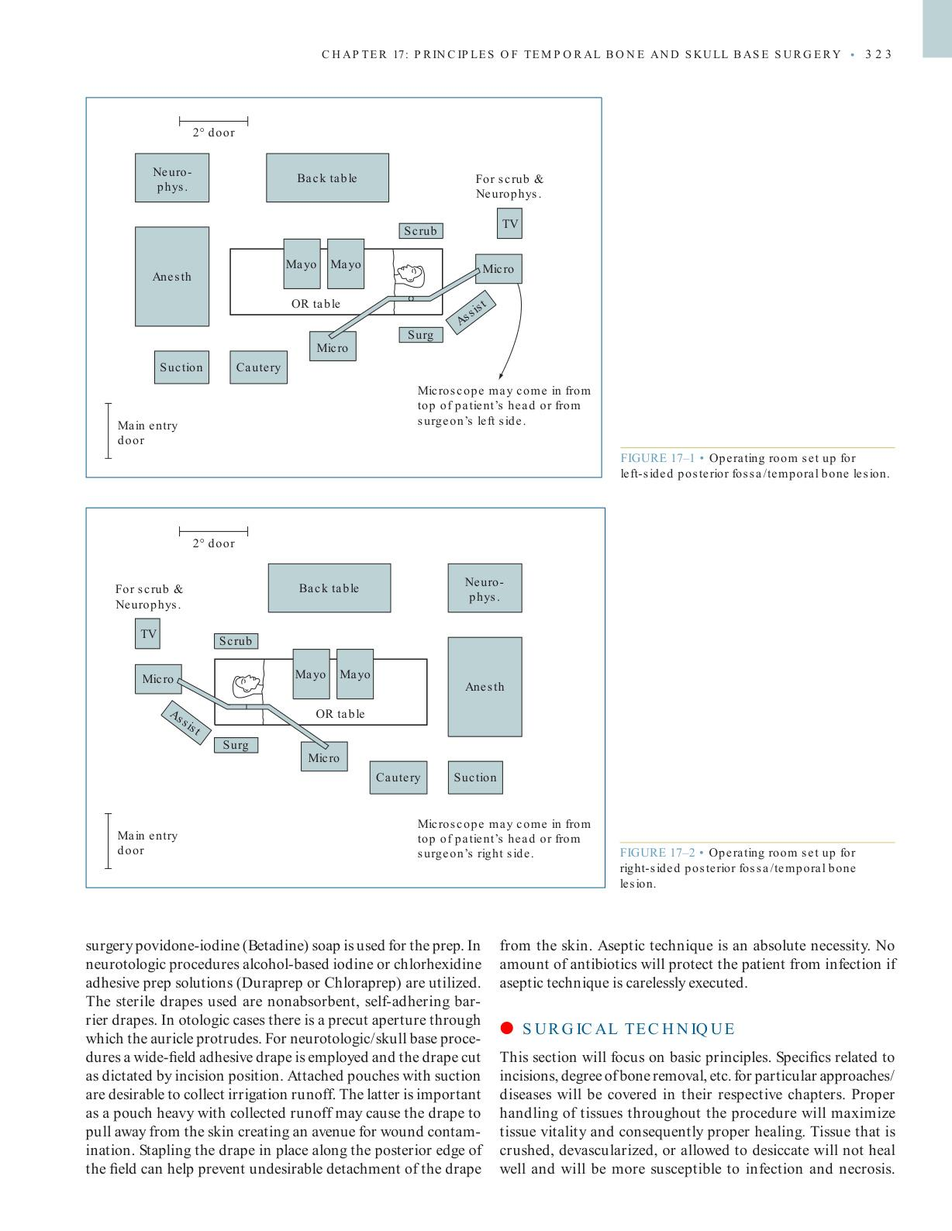caption: (617, 844, 858, 891), (619, 450, 891, 483)
header: (321, 47, 842, 61)
image: (91, 513, 601, 884), (91, 103, 598, 471)
section-heading: (521, 1019, 736, 1039)
text: (83, 936, 486, 1178), (498, 1048, 897, 1179), (498, 937, 899, 992)
